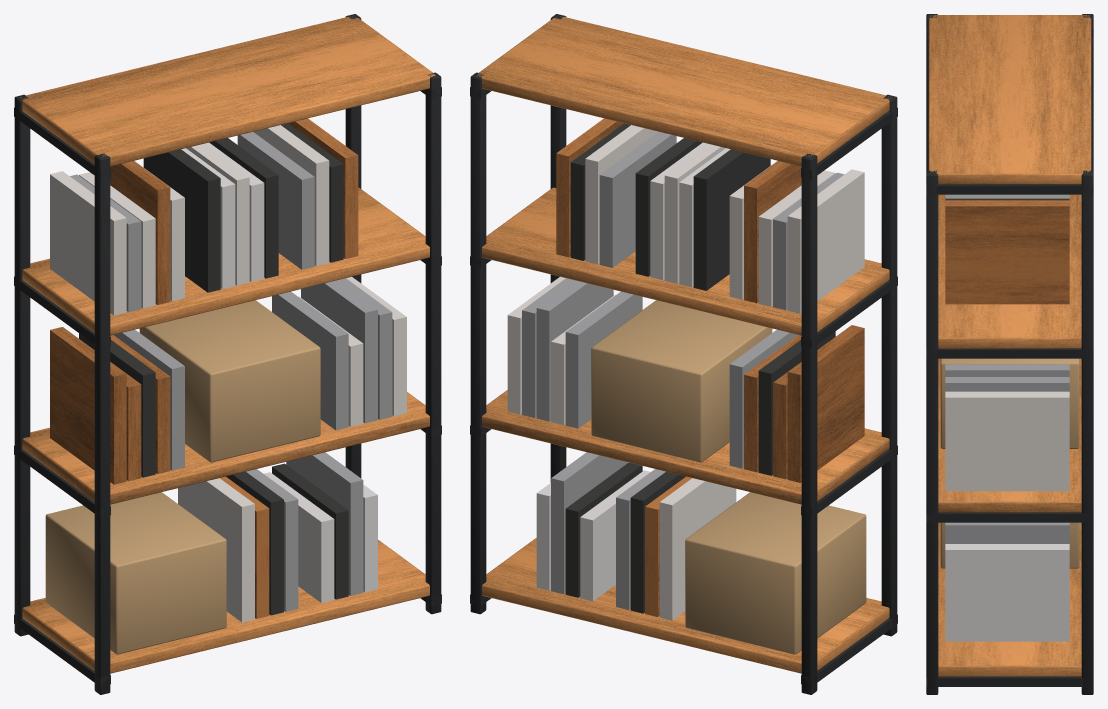
File: storage.bookcase-medium.glb
The picture shows the model from 3 angles, left to right: view 1: azimuth 30°, elevation 25°; view 2: azimuth 150°, elevation 25°; view 3: azimuth 270°, elevation 25°; orthographic projection. The views are drawn at different scales.
Parts seen in each view (by area): view 1: storage.bookcase-medium.001; view 2: storage.bookcase-medium.001; view 3: storage.bookcase-medium.001.
Part boxes in pixels (left/top/right/bottom): storage.bookcase-medium.001: left=14, top=14, right=441, bottom=694; storage.bookcase-medium.001: left=470, top=14, right=897, bottom=694; storage.bookcase-medium.001: left=926, top=14, right=1093, bottom=694.
Size of the model in its own units: 0.8 by 1.2 by 0.35.
8 materials, 2 textured.
